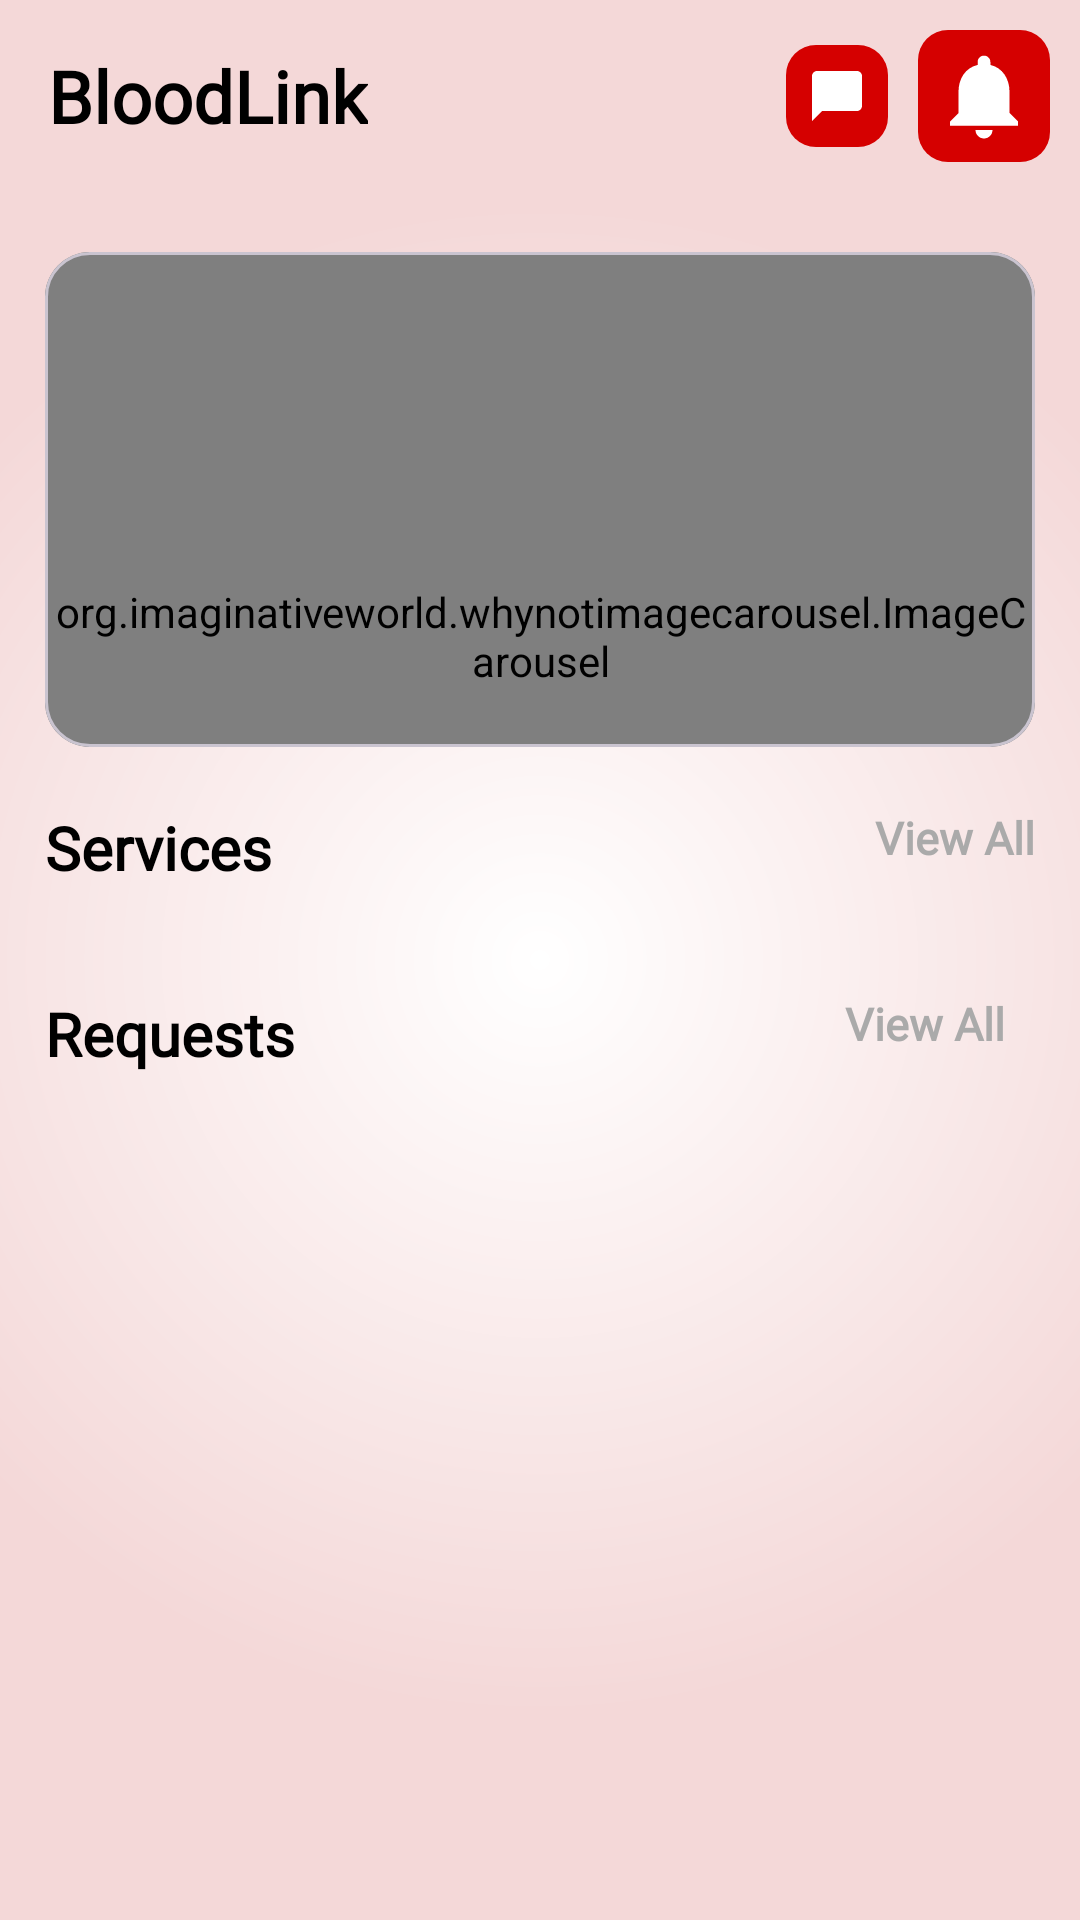

Where to tap for icons on this 1080x1920 app screen, as (x,y):
chat bubble: (837,96)
notifications: (984,96)
